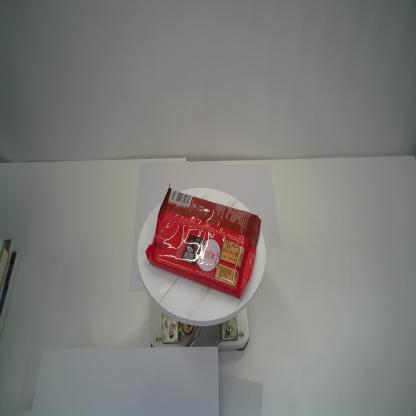Dessert: (145, 183, 262, 300)
